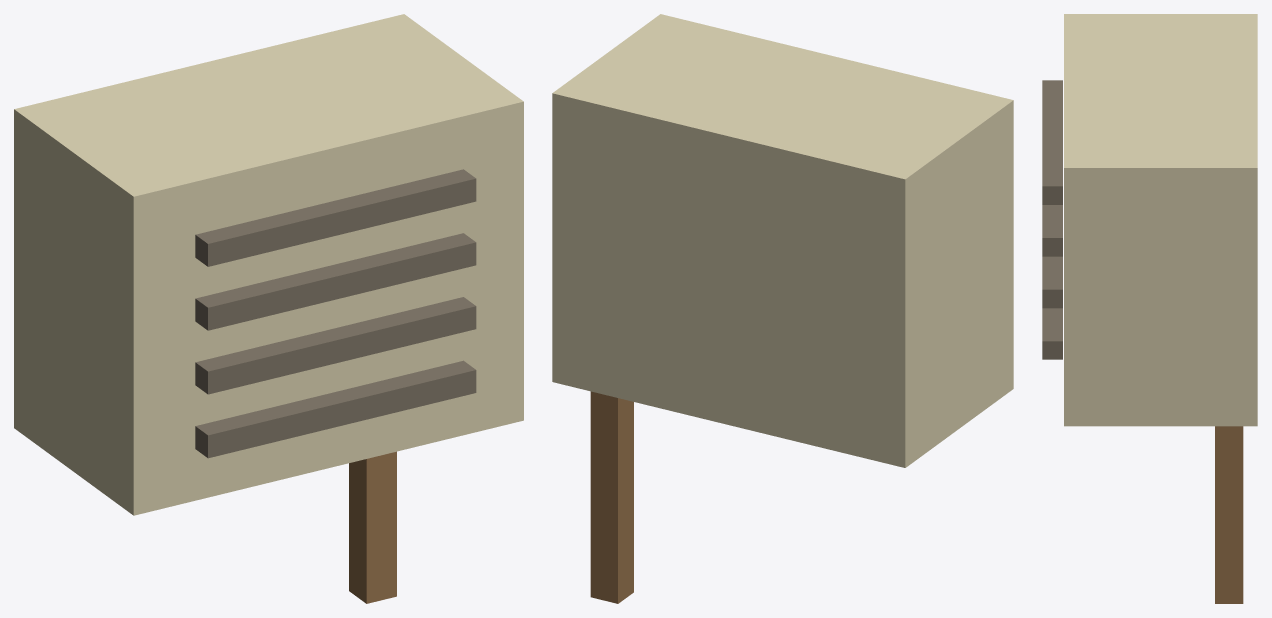
The model's file is utility_ac.glb.
3 views of the same model, side by side, from view 1: azimuth 30°, elevation 25°; view 2: azimuth 150°, elevation 25°; view 3: azimuth 270°, elevation 25° (orthographic). The views are drawn at different scales.
Visible parts, largest first — view 1: _MeshInstance3D_3, _MeshInstance3D_7, _MeshInstance3D_6, _MeshInstance3D_4, _MeshInstance3D_5, _MeshInstance3D_8; view 2: _MeshInstance3D_3, _MeshInstance3D_8; view 3: _MeshInstance3D_3, _MeshInstance3D_8, _MeshInstance3D_7, _MeshInstance3D_5, _MeshInstance3D_4, _MeshInstance3D_6.
Part boxes in pixels (bbox=[...]): _MeshInstance3D_3: bbox=[14, 14, 523, 515]; _MeshInstance3D_7: bbox=[195, 169, 476, 266]; _MeshInstance3D_6: bbox=[195, 233, 476, 330]; _MeshInstance3D_4: bbox=[195, 360, 476, 458]; _MeshInstance3D_5: bbox=[195, 297, 476, 394]; _MeshInstance3D_8: bbox=[349, 451, 396, 603]; _MeshInstance3D_3: bbox=[552, 14, 1013, 467]; _MeshInstance3D_8: bbox=[590, 391, 633, 603]; _MeshInstance3D_3: bbox=[1064, 14, 1257, 426]; _MeshInstance3D_8: bbox=[1215, 426, 1243, 603]; _MeshInstance3D_7: bbox=[1042, 80, 1062, 204]; _MeshInstance3D_5: bbox=[1042, 256, 1062, 308]; _MeshInstance3D_4: bbox=[1042, 308, 1062, 359]; _MeshInstance3D_6: bbox=[1042, 205, 1062, 256].
Size of the model in its own units: 0.32 by 0.435 by 0.189.
